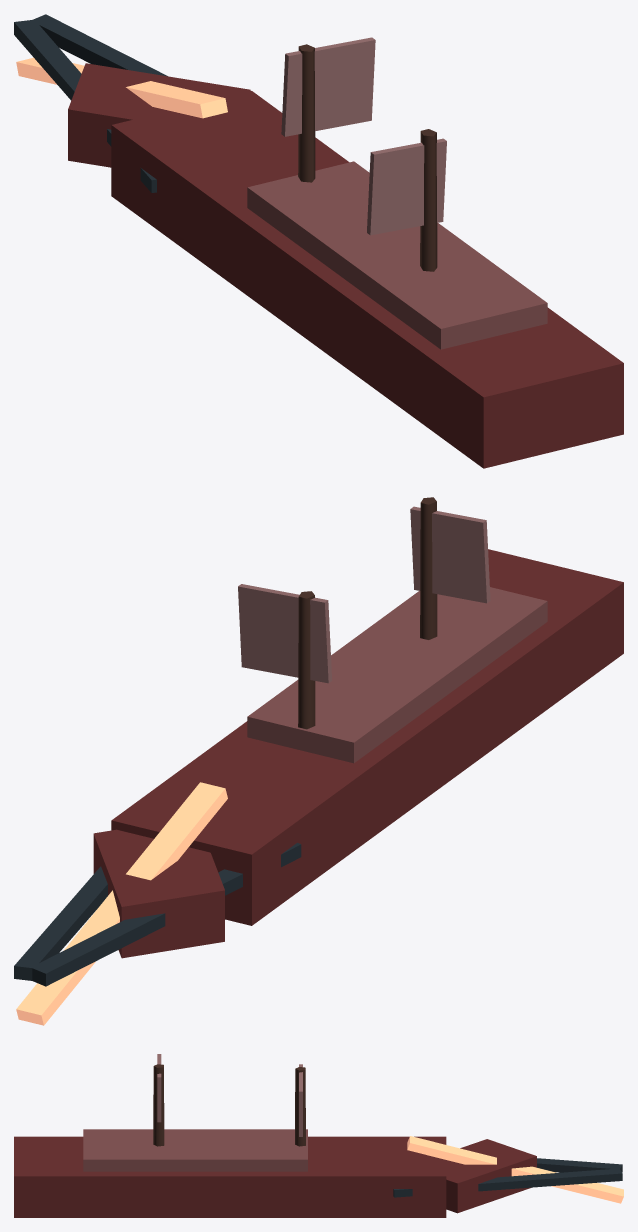
File: ship_main_52_lod2.glb
3 renders of one model, top to bottom at view 1: azimuth 30°, elevation 25°; view 2: azimuth 150°, elevation 25°; view 3: azimuth 270°, elevation 25°, orthographic. The views are drawn at different scales.
Visible parts, largest first — view 1: Hull, Deck_0, Bow, Sail_0, Sail_1, ProwIdentity, PortHook, StarboardHook, Mast_1, Mast_0; view 2: Hull, Deck_0, Bow, Sail_0, ProwIdentity, Sail_1, PortHook, StarboardHook, Mast_1, Mast_0; view 3: Hull, Deck_0, Bow, ProwIdentity, StarboardHook, PortHook, Mast_1, Mast_0, Sail_1, Sail_0.
Boxes of the visible parts, bbox=[...] form: Hull: bbox=[111, 91, 623, 468]; Deck_0: bbox=[247, 161, 547, 349]; Bow: bbox=[68, 63, 250, 167]; Sail_0: bbox=[281, 37, 375, 136]; Sail_1: bbox=[367, 138, 446, 235]; ProwIdentity: bbox=[16, 57, 227, 118]; PortHook: bbox=[14, 19, 156, 192]; StarboardHook: bbox=[33, 14, 167, 76]; Mast_1: bbox=[420, 129, 437, 271]; Mast_0: bbox=[298, 44, 315, 182]; Hull: bbox=[111, 549, 623, 925]; Deck_0: bbox=[247, 587, 547, 763]; Bow: bbox=[93, 829, 224, 958]; Sail_0: bbox=[238, 584, 331, 683]; ProwIdentity: bbox=[16, 782, 227, 1025]; Sail_1: bbox=[410, 506, 490, 603]; PortHook: bbox=[31, 842, 301, 986]; StarboardHook: bbox=[14, 866, 107, 980]; Mast_1: bbox=[420, 497, 437, 639]; Mast_0: bbox=[298, 591, 315, 729]; Hull: bbox=[14, 1136, 446, 1217]; Deck_0: bbox=[83, 1129, 307, 1171]; Bow: bbox=[446, 1139, 536, 1213]; ProwIdentity: bbox=[407, 1136, 623, 1203]; StarboardHook: bbox=[393, 1169, 622, 1197]; PortHook: bbox=[537, 1158, 622, 1172]; Mast_1: bbox=[153, 1064, 164, 1146]; Mast_0: bbox=[295, 1067, 305, 1146]; Sail_1: bbox=[157, 1054, 161, 1122]; Sail_0: bbox=[299, 1064, 302, 1136].
Bounding box in the file's own units: 1.53 × 2.14 × 8.84.
